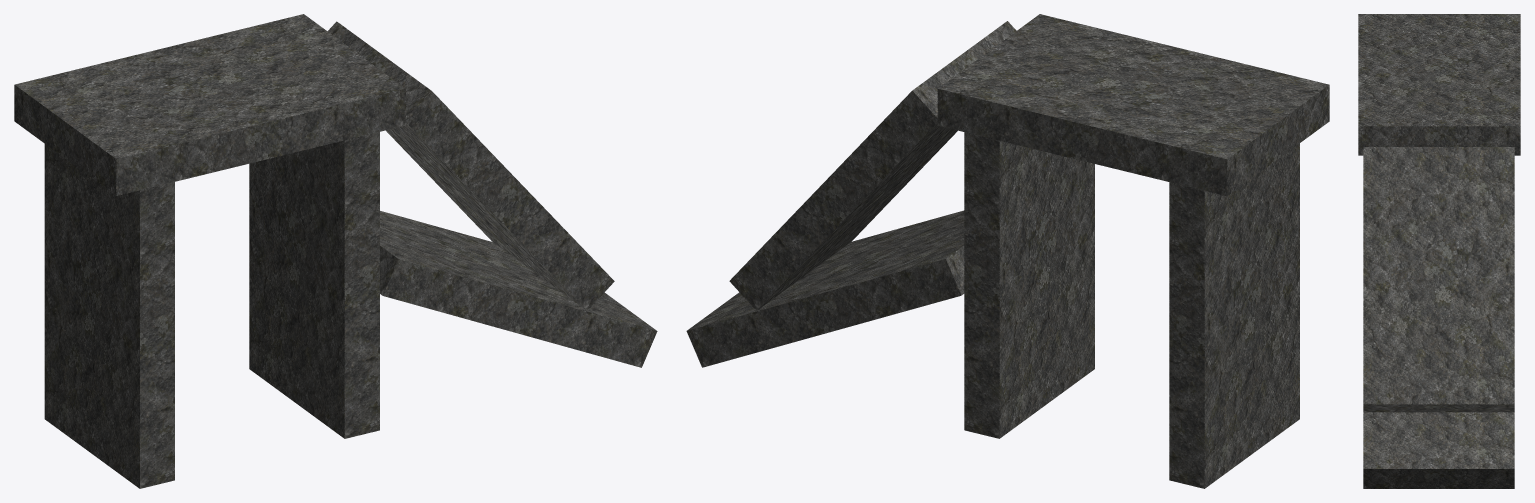
Rendered from Megalith_Ruins_Local.glb.
3 views of the same model, side by side, from view 1: azimuth 30°, elevation 25°; view 2: azimuth 150°, elevation 25°; view 3: azimuth 270°, elevation 25° (orthographic). The views are drawn at different scales.
Parts seen in each view (by area): view 1: Megalith Ruins; view 2: Megalith Ruins; view 3: Megalith Ruins.
Part boxes in pixels (<box>): Megalith Ruins: <box>14,14,657,488</box>; Megalith Ruins: <box>686,14,1329,488</box>; Megalith Ruins: <box>1358,14,1520,488</box>.
Size of the model in its own units: 7.4 by 4.41 by 2.4.
1 material, 1 textured.
